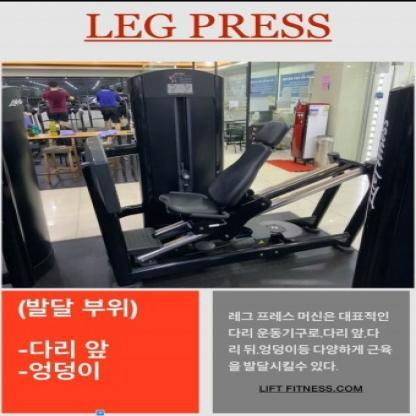leg press: (82, 68, 380, 288)
